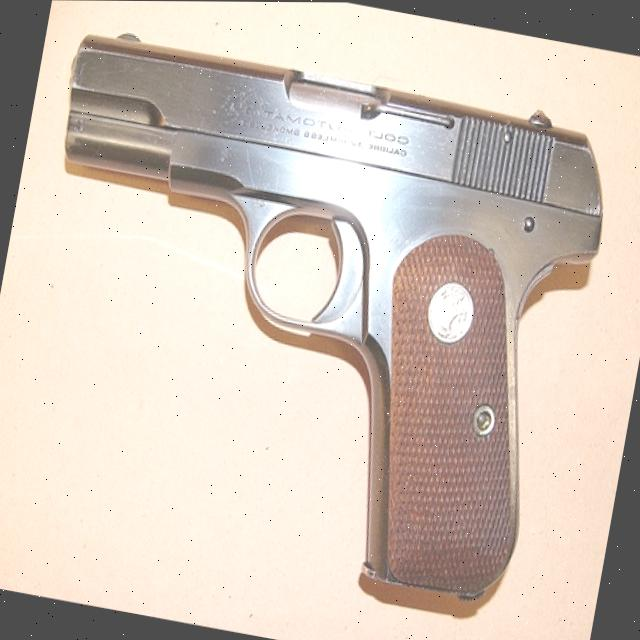pistol: (0, 20, 625, 615)
